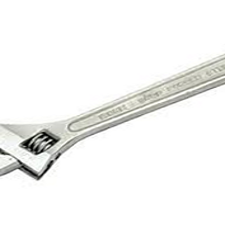Wrench: (1, 51, 225, 200)
